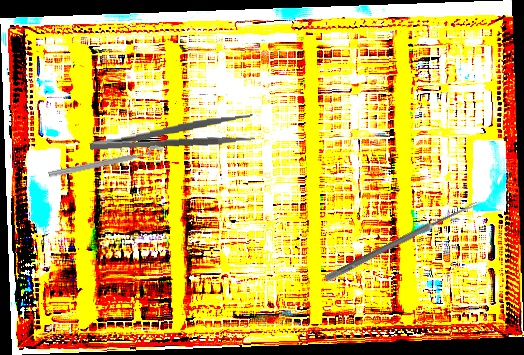Dressing Forceps: (88, 113, 255, 154)
Fixation Ring: (47, 144, 166, 187)
Surgical Spoon: (324, 199, 479, 283)
